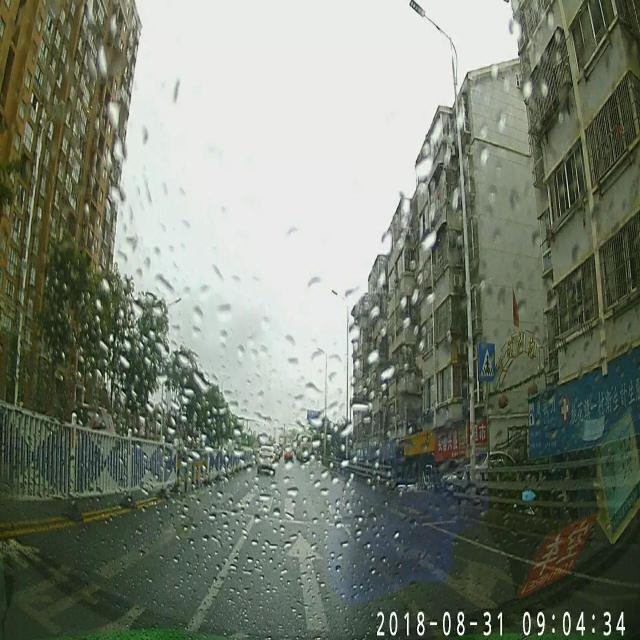car: (258, 441, 276, 476), (284, 444, 292, 460)
